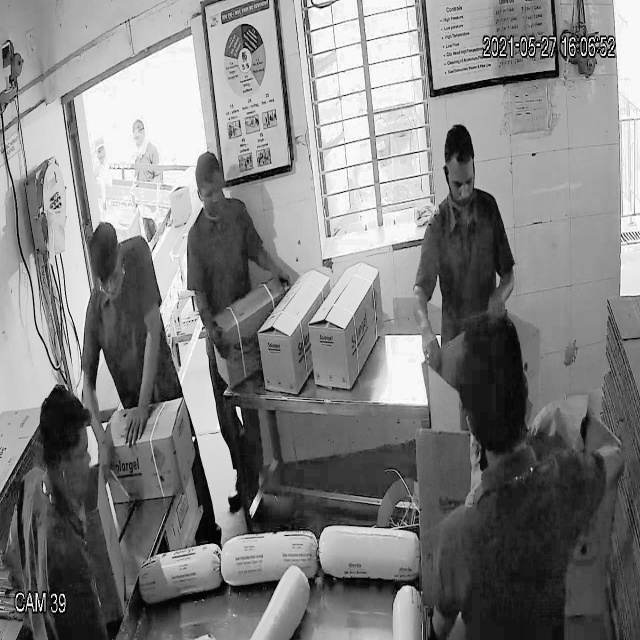Sin_gafas: (90, 264, 125, 299), (443, 164, 476, 198)
